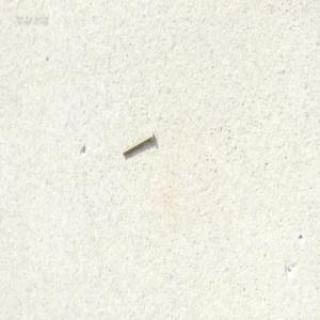Bolttrack_idkeyframe: (121, 130, 154, 155)
